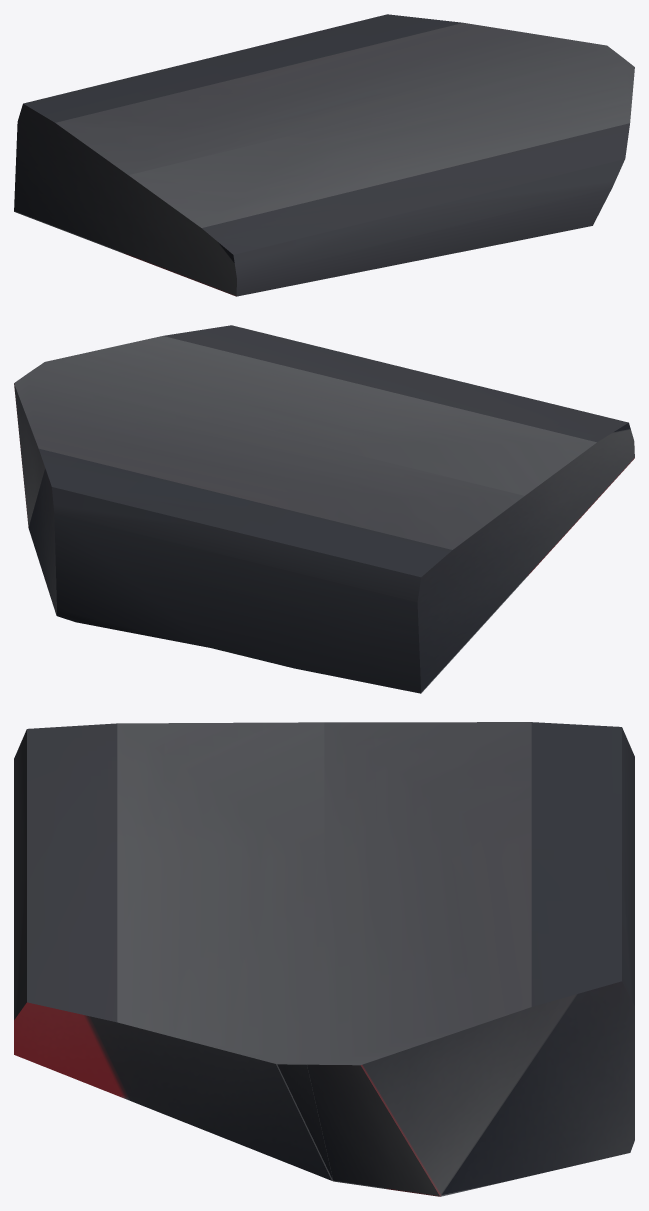
Rendered from torii_broken_028.obj.
3 views of the same model, one above another, from view 1: azimuth 30°, elevation 25°; view 2: azimuth 150°, elevation 25°; view 3: azimuth 270°, elevation 25° (orthographic). The views are drawn at different scales.
Visible parts, largest first — view 1: 鳥居.001_cell.028_鳥居.001_cell.016; view 2: 鳥居.001_cell.028_鳥居.001_cell.016; view 3: 鳥居.001_cell.028_鳥居.001_cell.016.
Boxes of the visible parts, x1=… form: 鳥居.001_cell.028_鳥居.001_cell.016: x1=14, y1=14, x2=634, y2=296; 鳥居.001_cell.028_鳥居.001_cell.016: x1=14, y1=325, x2=634, y2=693; 鳥居.001_cell.028_鳥居.001_cell.016: x1=14, y1=722, x2=634, y2=1196.
Size of the model in its own units: 0.5712 by 0.1422 by 0.431.
1 material, 1 textured.
